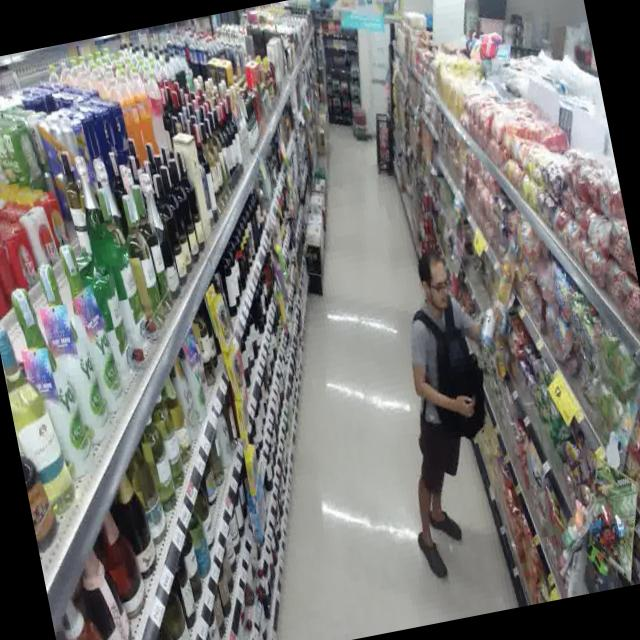pickup: (352, 225, 552, 592)
